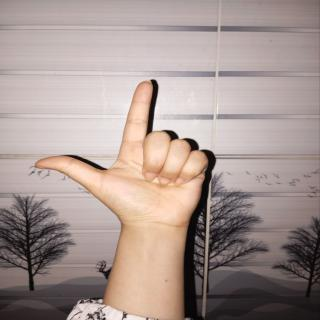LAAM: (29, 76, 215, 262)
